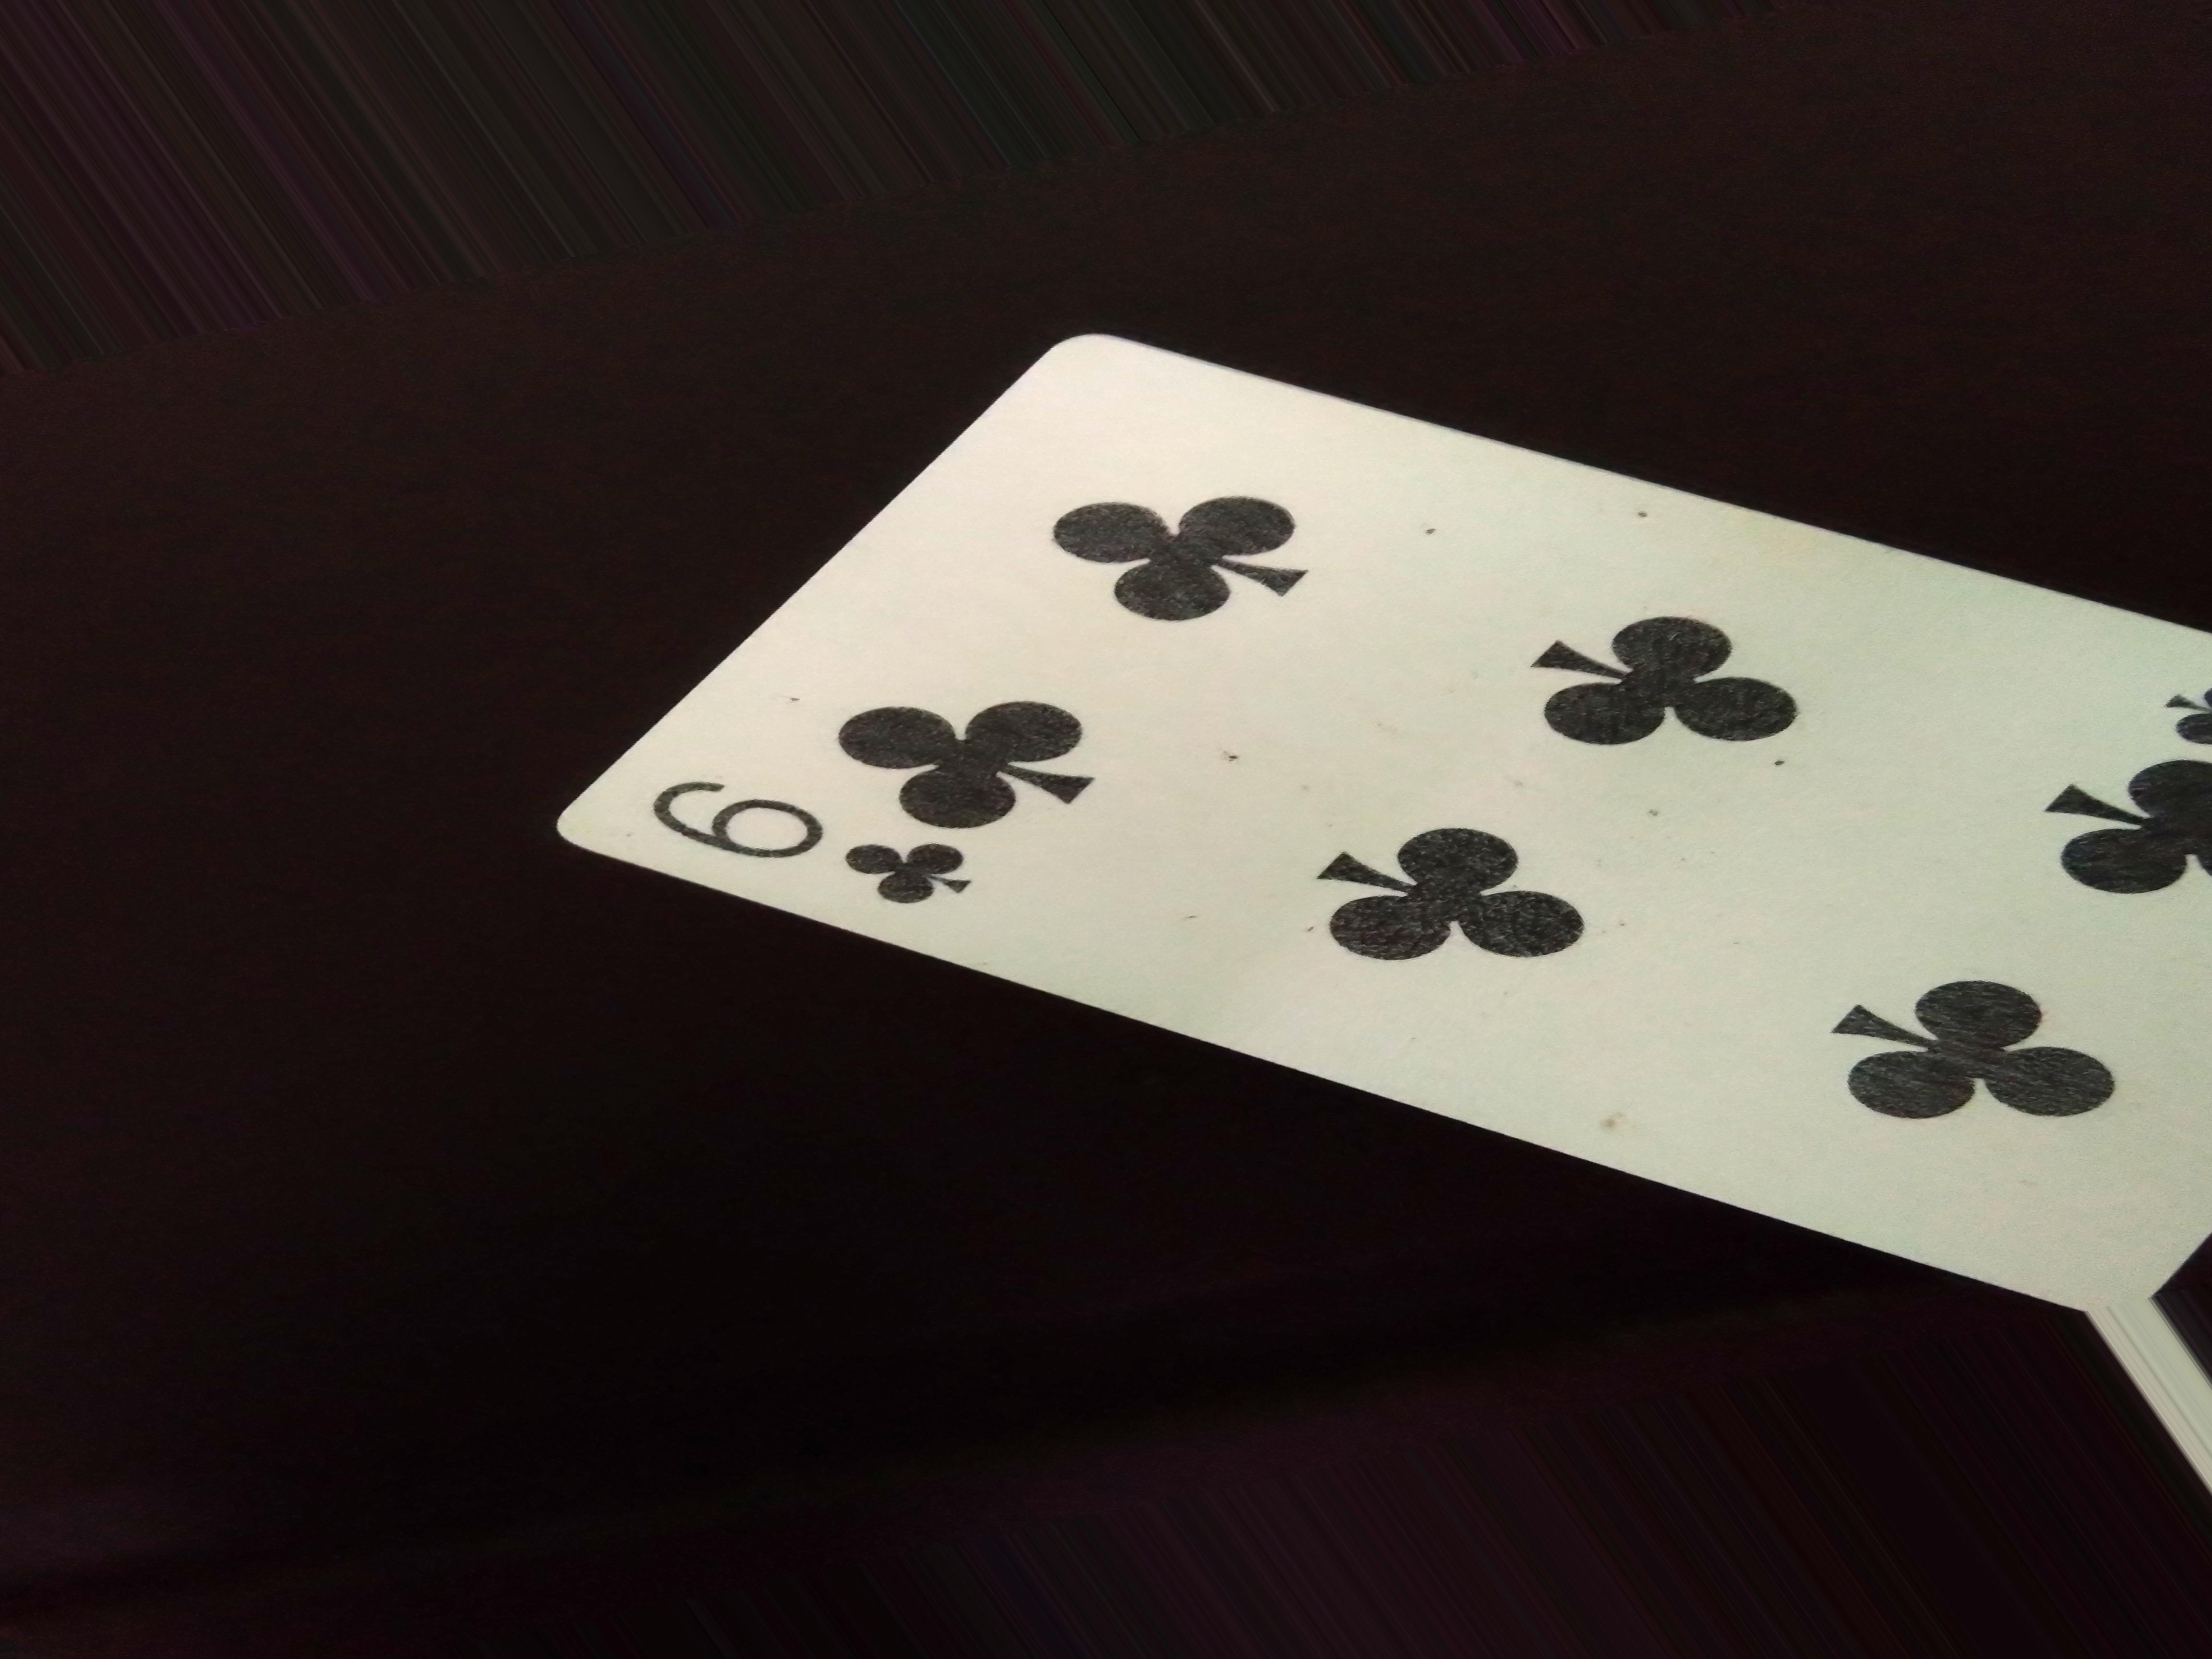6C: (641, 769, 1001, 927)
